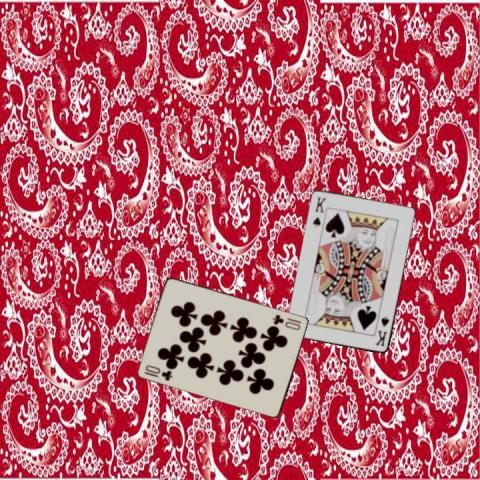10c: (269, 312, 303, 332), (142, 361, 174, 382)
Ks: (372, 313, 390, 348), (310, 194, 327, 229)
